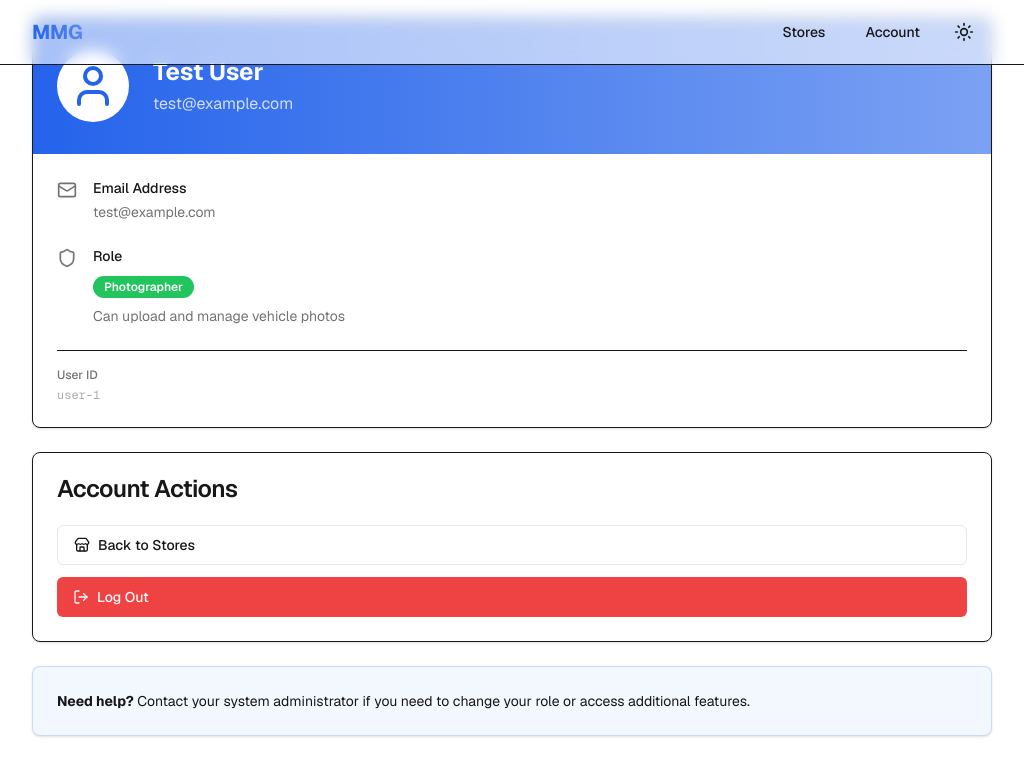
Test: Account Page › logout button shows loading state
(page scrolled)
Click the button "Log Out": (123, 597) [57, 577, 967, 617]
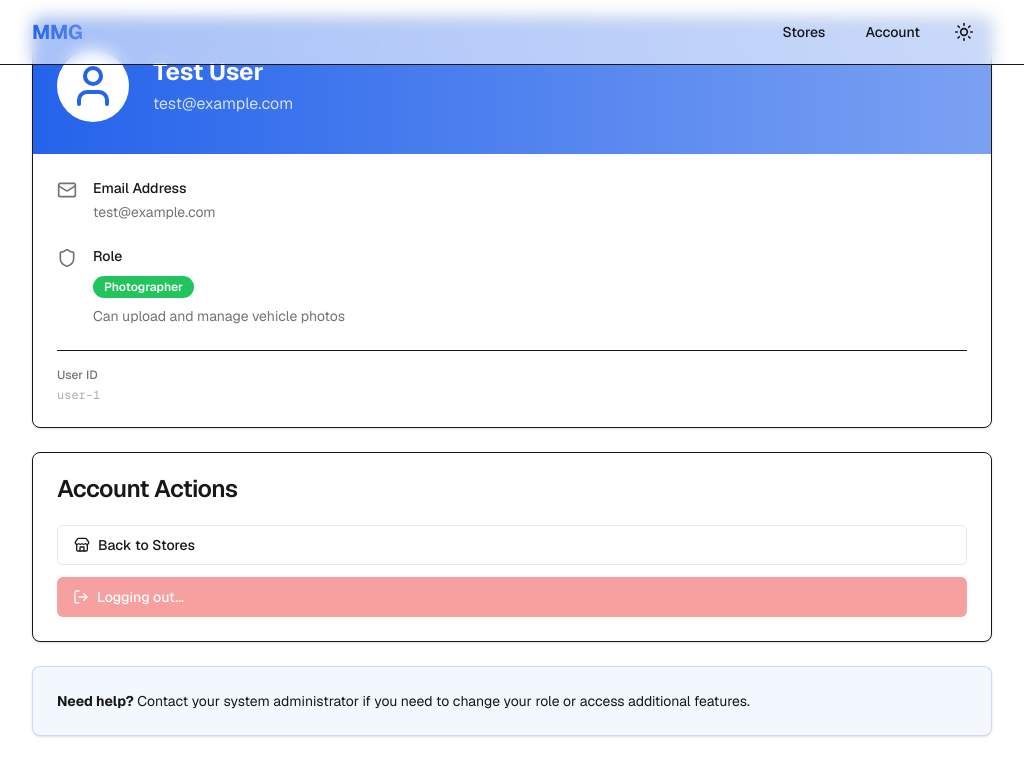
Now the button "Logging out..." is shown, box [57, 577, 967, 617]
